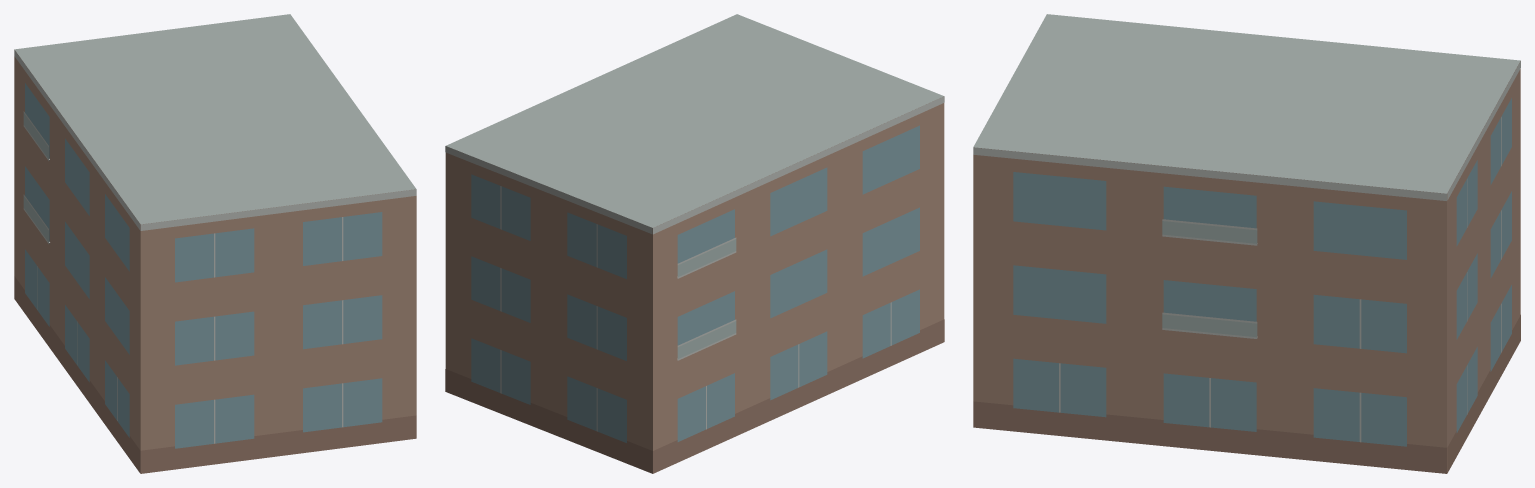
File: survey-upis-32706798.glb
3 renders of one model, left to right at view 1: azimuth 30°, elevation 25°; view 2: azimuth 150°, elevation 25°; view 3: azimuth 270°, elevation 25°, orthographic. The views are drawn at different scales.
Visible parts, largest first — view 1: survey-upis-32706798.tmp; view 2: survey-upis-32706798.tmp; view 3: survey-upis-32706798.tmp.
Boxes of the visible parts, x1,y1,x2,y2 form: survey-upis-32706798.tmp: (14, 14, 416, 473); survey-upis-32706798.tmp: (445, 14, 944, 473); survey-upis-32706798.tmp: (973, 14, 1520, 473).
Bounding box in the file's own units: 12.6 × 9.15 × 16.22.
